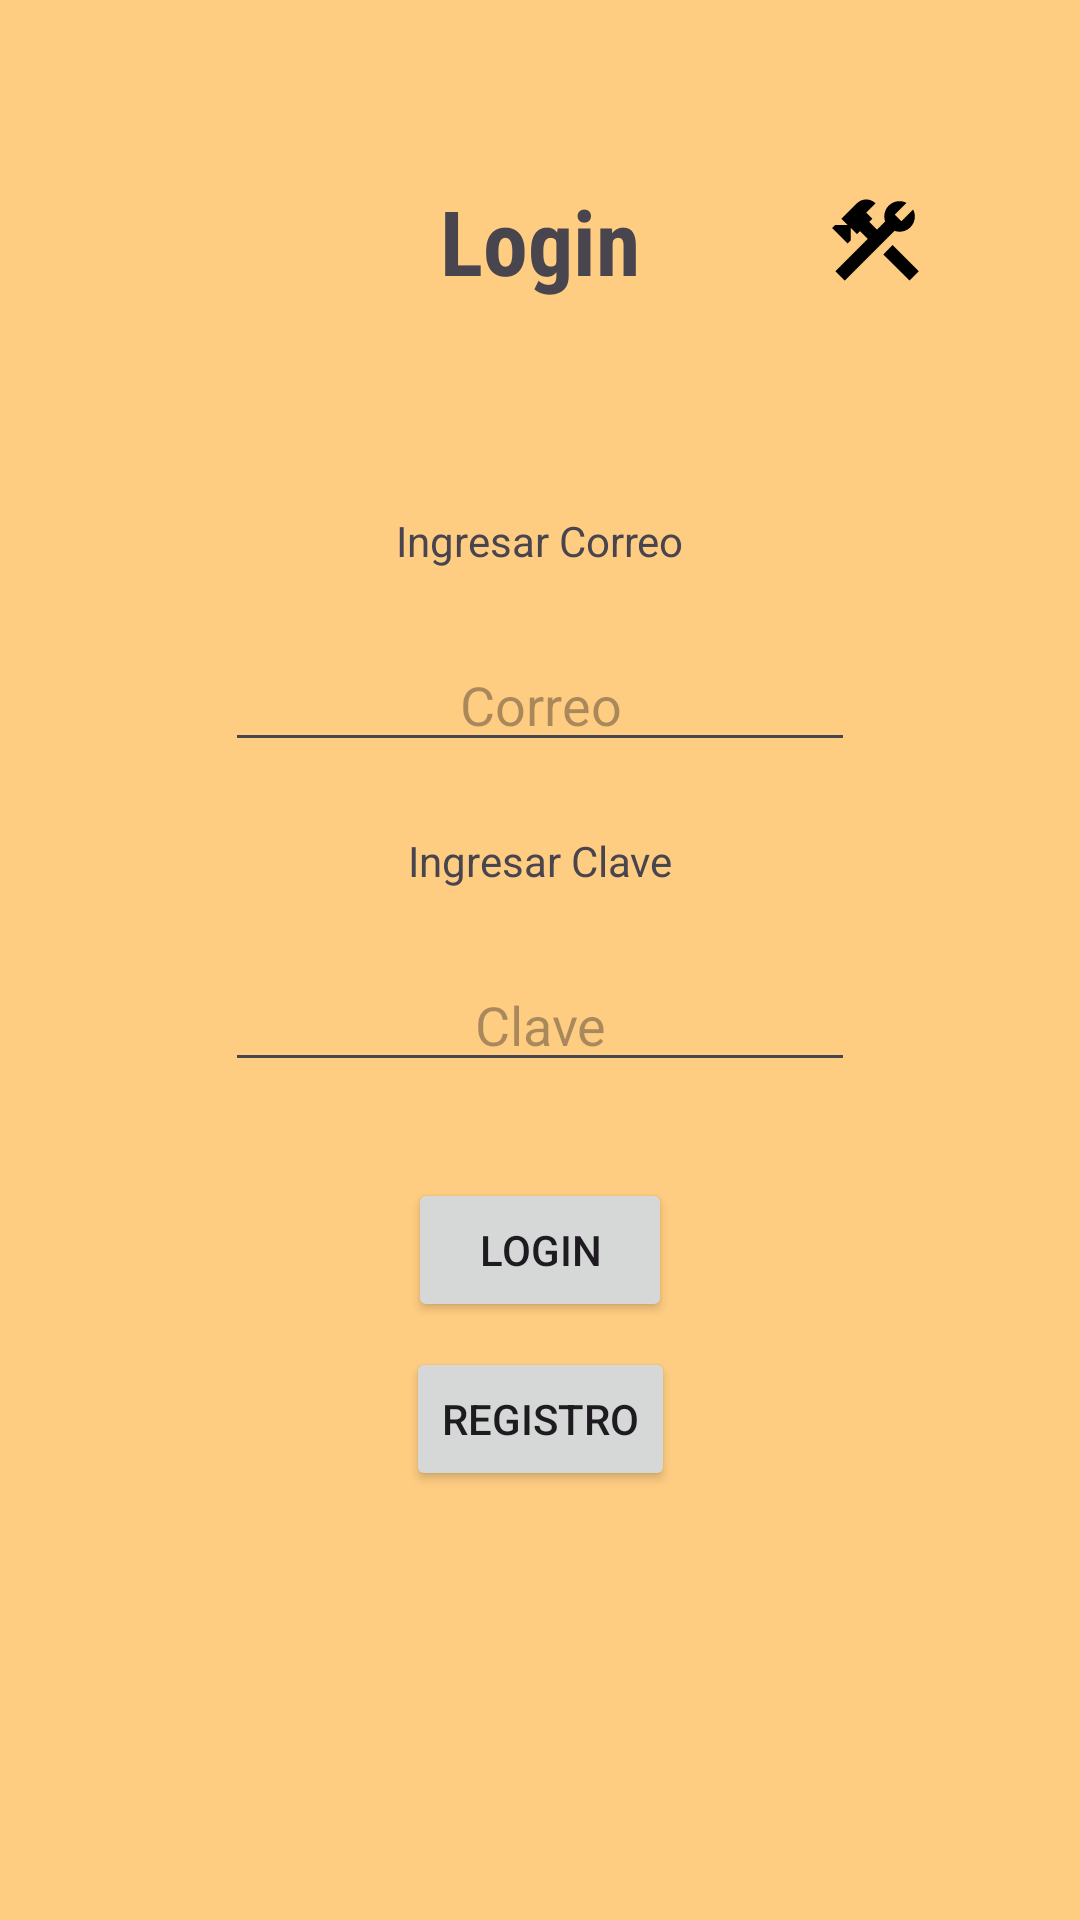

Named icons in this screenshot (1080w x 1920h) and their bounding boxes, (x1, y1, x2, y2):
construction: (832, 199, 919, 281)
